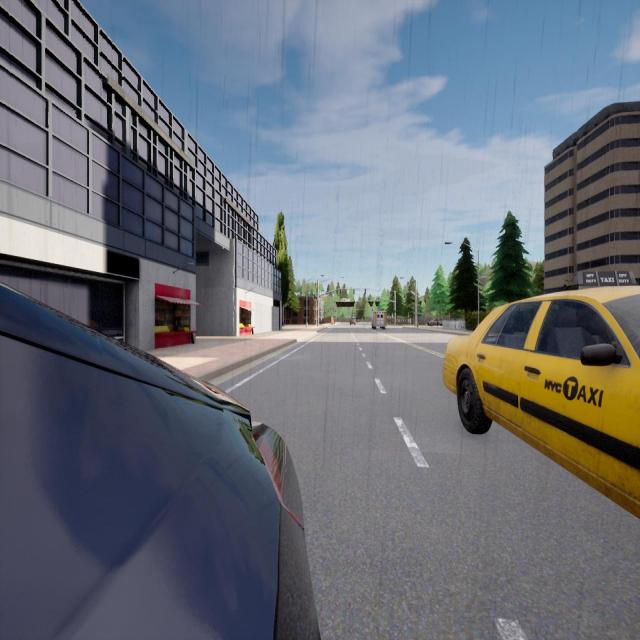Vehicle: (0, 285, 319, 640), (443, 286, 639, 517), (371, 310, 387, 330), (428, 317, 442, 326), (350, 317, 356, 325)
traffic_light: (340, 289, 341, 295), (394, 310, 396, 313), (365, 288, 366, 294), (410, 293, 412, 296), (368, 297, 369, 301), (404, 294, 405, 298), (378, 298, 379, 301), (360, 297, 360, 301), (354, 289, 354, 294)
